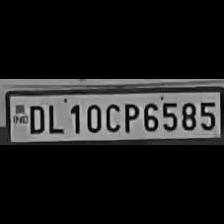0: (82, 100, 102, 132)
1: (65, 100, 83, 134)
5: (197, 98, 217, 132), (159, 98, 177, 132)
6: (140, 100, 158, 132)
8: (178, 98, 196, 132)
C: (104, 100, 120, 132)
D: (24, 102, 46, 134)
L: (44, 100, 64, 134)
P: (120, 100, 138, 132)
